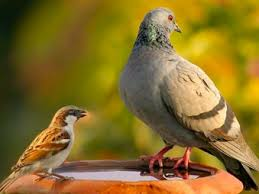hsparrow: (6, 102, 90, 192)
